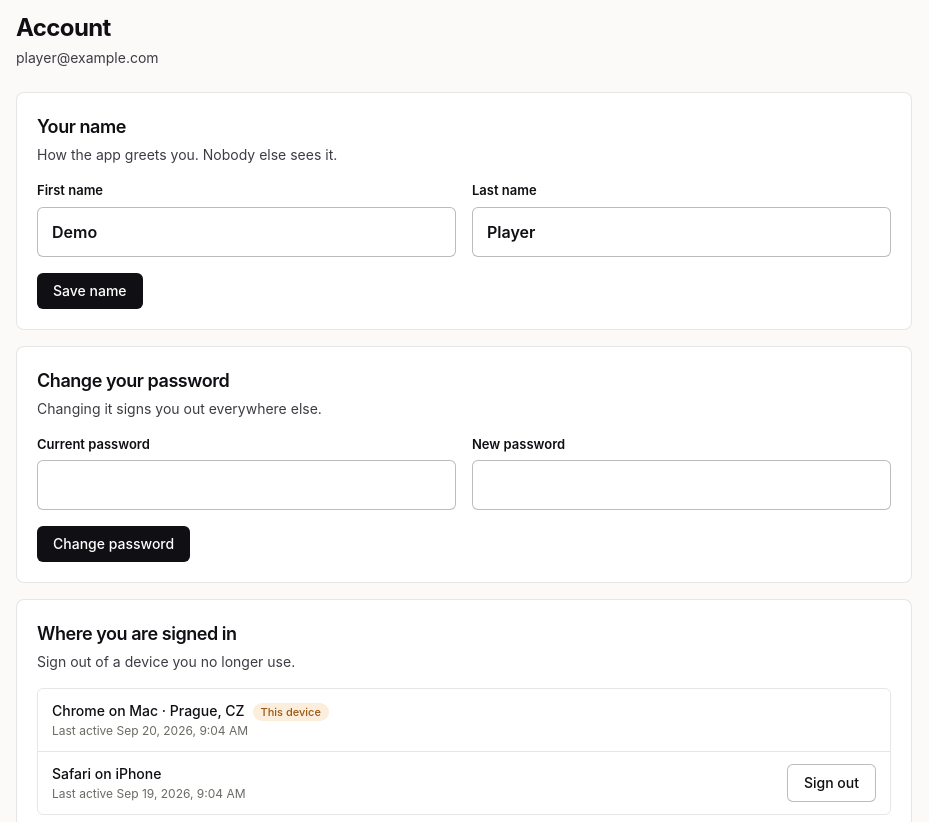
Test: AccountPage › shows who is signed in and saves a new name
The width and height of the screenshot is (929, 822).
Expected: the text "player@example.com" is shown, [16,49,159,66]
Replace the text in the field labelled "First name" with "Wes" at (246, 232), box [37,206,456,256]
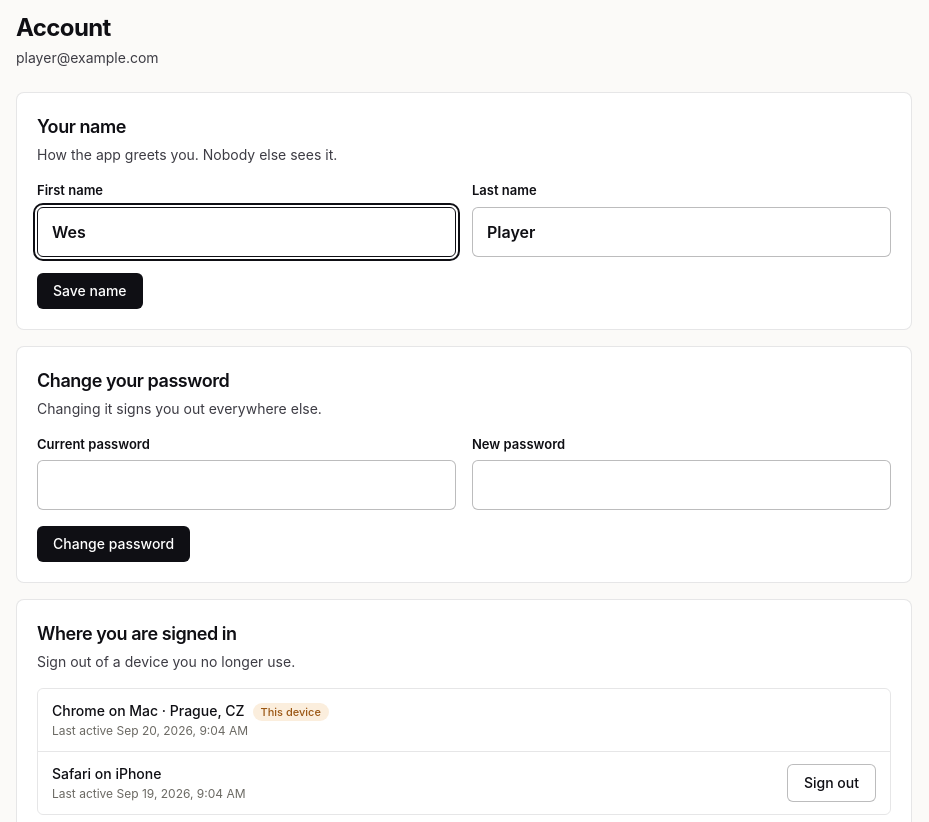
Click the button "Save name" at (90, 290), box [37,272,142,308]
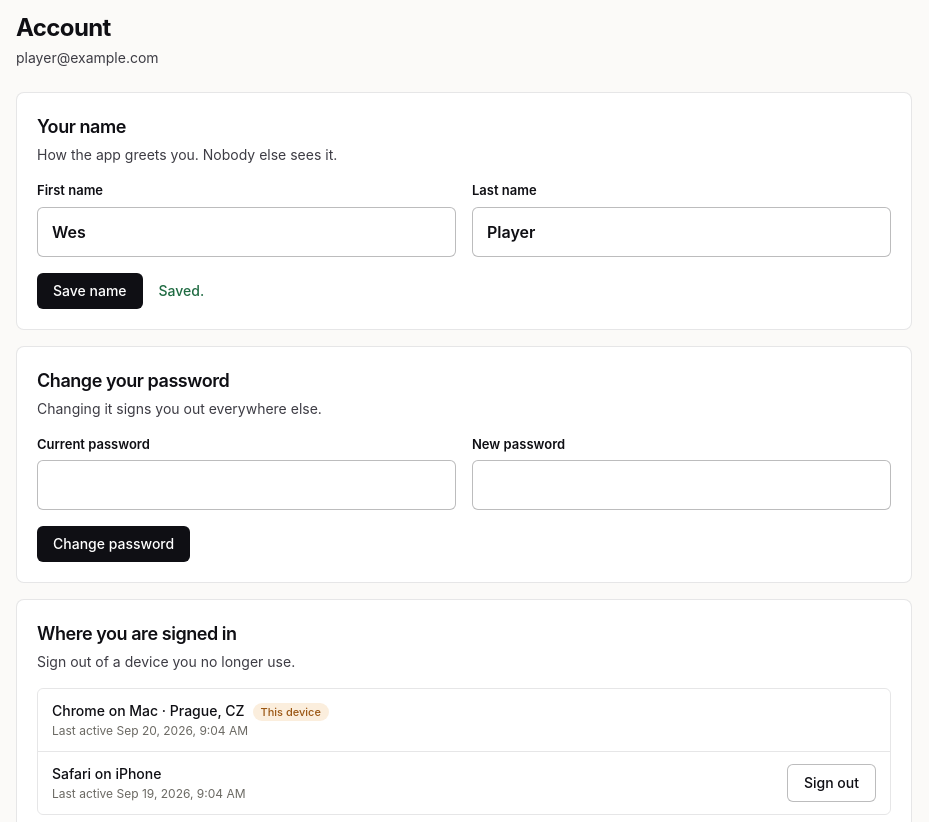
Now the text "Saved." is shown, box [158,280,204,300]
